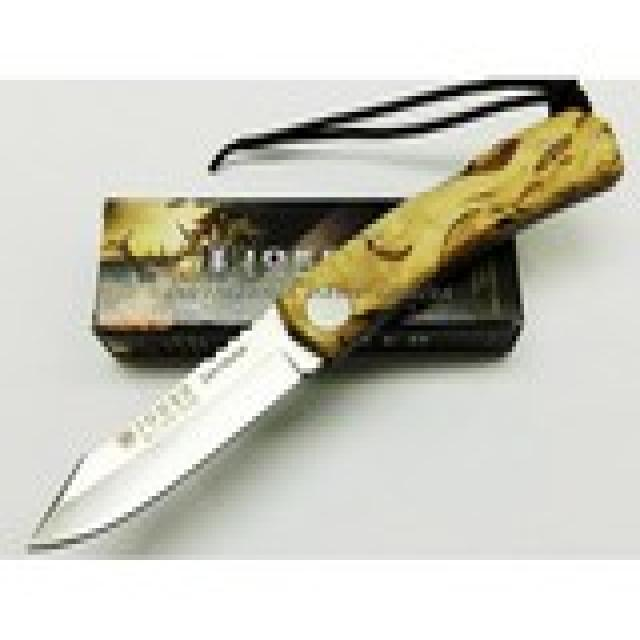Knife: (13, 109, 619, 562)
